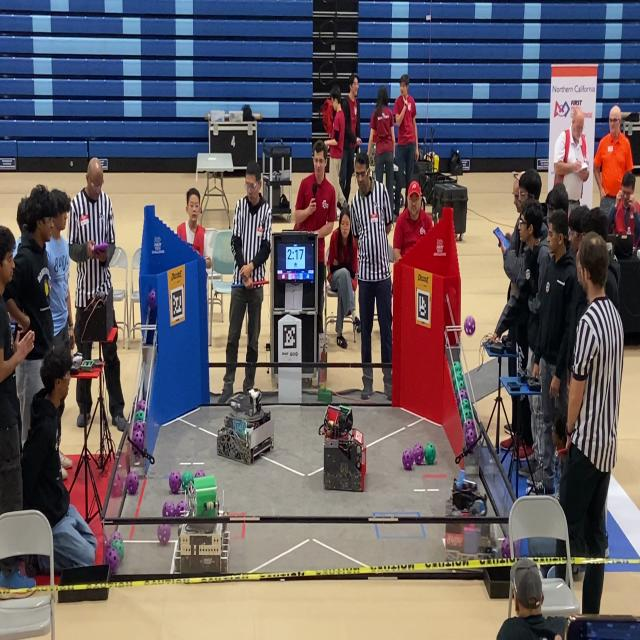artifact_green: (105, 547, 120, 574), (111, 540, 124, 562), (424, 443, 436, 465), (460, 400, 473, 420), (182, 470, 193, 489), (453, 373, 462, 389), (455, 373, 464, 388), (453, 377, 460, 395), (461, 399, 471, 411), (135, 410, 145, 421), (463, 410, 473, 421), (204, 502, 215, 512), (454, 368, 464, 378), (453, 361, 462, 372), (455, 368, 464, 378), (451, 370, 461, 379), (459, 403, 464, 420), (454, 362, 462, 372), (459, 401, 464, 417), (459, 379, 466, 390), (460, 416, 465, 431), (458, 403, 462, 415), (454, 361, 460, 366)
artifact_purple: (105, 547, 120, 574), (112, 471, 125, 497), (157, 524, 171, 546), (132, 430, 144, 454), (127, 471, 139, 495), (465, 429, 477, 451), (402, 449, 414, 471), (169, 471, 181, 493), (413, 443, 424, 465), (182, 470, 193, 490), (464, 316, 475, 335), (501, 536, 510, 558), (109, 531, 122, 546), (163, 501, 175, 517), (465, 420, 477, 436), (176, 501, 187, 516), (457, 390, 468, 405), (103, 533, 110, 556), (148, 290, 156, 310), (134, 421, 145, 432), (465, 419, 475, 431), (133, 429, 144, 438), (136, 400, 145, 410), (194, 470, 205, 477)
